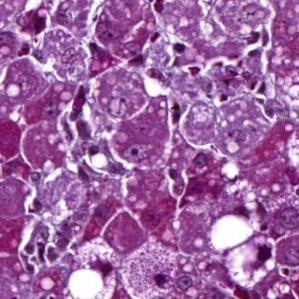ballooning: (223, 233, 279, 293)
